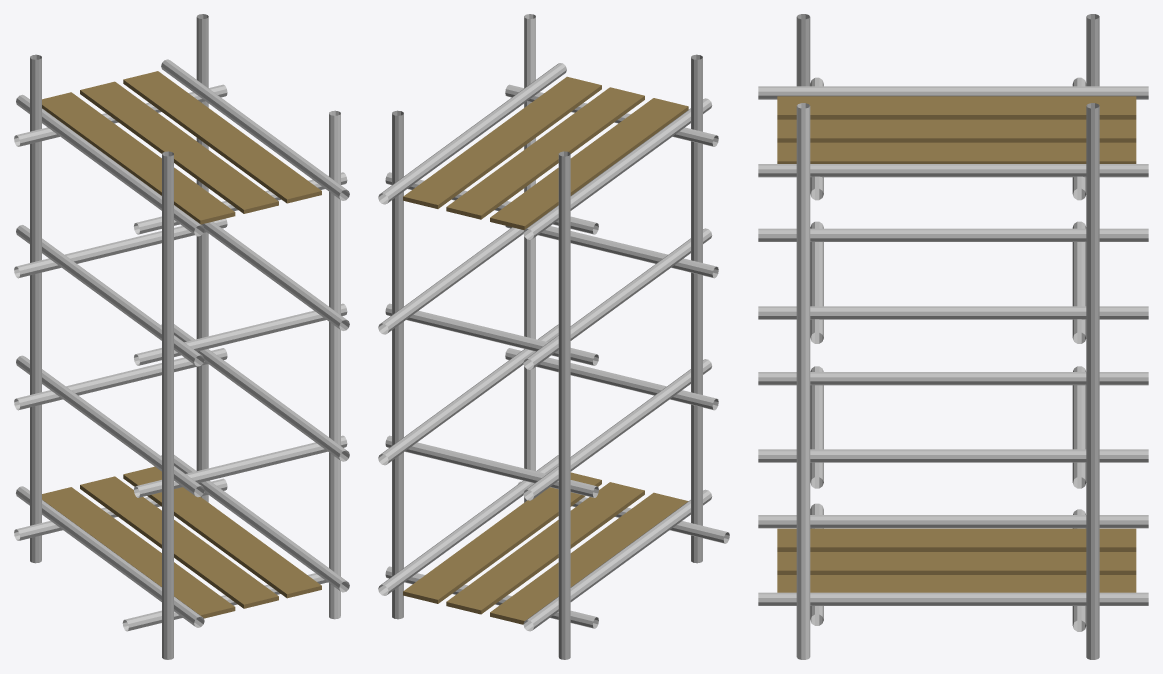
Rendered from scaffolding4.fbx.
3 views of the same model, side by side, from view 1: azimuth 30°, elevation 25°; view 2: azimuth 150°, elevation 25°; view 3: azimuth 270°, elevation 25° (orthographic). The views are drawn at different scales.
Parts seen in each view (by area): view 1: pCube54, pCube58, pCylinder48, pCube53, pCube31, pCube56, pCylinder87, pCube50, pCylinder36, pCylinder47, pCylinder74, pCylinder81 (+14 smaller); view 2: pCylinder87, pCube54, pCube58, pCube53, pCube31, pCube56, pCylinder48, pCube50, pCylinder47, pCylinder36, pCylinder74, pCylinder41 (+14 smaller); view 3: pCylinder36, pCube31, pCube58, pCube50, pCylinder47, pCube53, pCube54, pCube56, pCylinder52, pCylinder42, pCylinder37, pCylinder92 (+10 smaller).
Boxes of the visible parts, left/top/right/bottom form: pCube54: left=123, top=71, right=321, bottom=203; pCube58: left=80, top=81, right=278, bottom=213; pCylinder48: left=162, top=151, right=173, bottom=659; pCube53: left=80, top=476, right=278, bottom=608; pCube31: left=42, top=92, right=235, bottom=224; pCube56: left=123, top=466, right=321, bottom=598; pCylinder87: left=30, top=54, right=41, bottom=563; pCube50: left=42, top=487, right=235, bottom=618; pCylinder36: left=329, top=110, right=340, bottom=619; pCylinder47: left=196, top=14, right=208, bottom=502; pCylinder74: left=161, top=59, right=349, bottom=200; pCylinder81: left=16, top=94, right=204, bottom=236; pCylinder87: left=558, top=151, right=570, bottom=659; pCube54: left=403, top=76, right=601, bottom=208; pCube58: left=446, top=87, right=644, bottom=219; pCube53: left=446, top=482, right=644, bottom=614; pCube31: left=490, top=98, right=688, bottom=229; pCube56: left=403, top=472, right=601, bottom=603; pCylinder48: left=691, top=54, right=702, bottom=563; pCube50: left=490, top=492, right=688, bottom=624; pCylinder47: left=392, top=110, right=403, bottom=619; pCylinder36: left=524, top=14, right=535, bottom=502; pCylinder74: left=378, top=63, right=566, bottom=204; pCylinder41: left=523, top=489, right=712, bottom=631; pCylinder36: left=796, top=103, right=810, bottom=659; pCube31: left=777, top=96, right=1136, bottom=119; pCube58: left=777, top=119, right=1136, bottom=142; pCube50: left=777, top=528, right=1136, bottom=551; pCylinder47: left=1086, top=103, right=1099, bottom=659; pCube53: left=777, top=552, right=1136, bottom=574; pCube54: left=777, top=142, right=1136, bottom=163; pCube56: left=777, top=575, right=1136, bottom=592; pCylinder52: left=758, top=306, right=1148, bottom=319; pCylinder42: left=758, top=449, right=1148, bottom=462; pCylinder37: left=758, top=228, right=1148, bottom=241; pCylinder92: left=758, top=372, right=1148, bottom=385.
Size of the model in its own units: 10.43 by 22.96 by 14.74.
